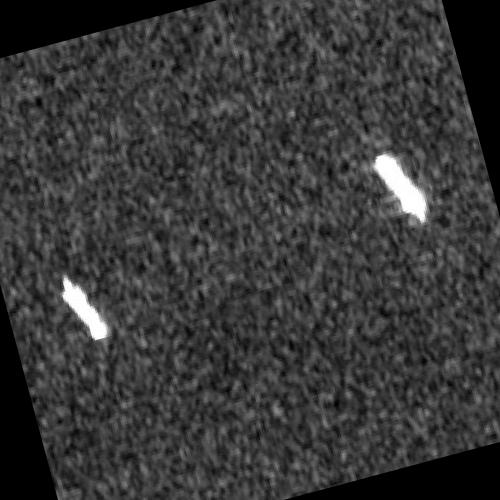ship: (374, 151, 429, 223), (61, 275, 110, 340)
